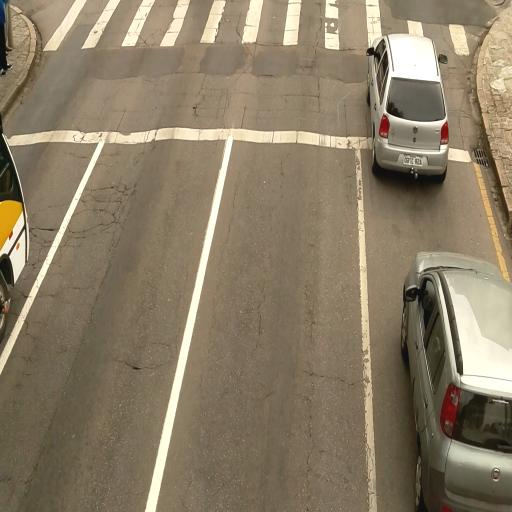car: (400, 252, 512, 508), (367, 33, 451, 181)
others: (0, 118, 30, 352)
